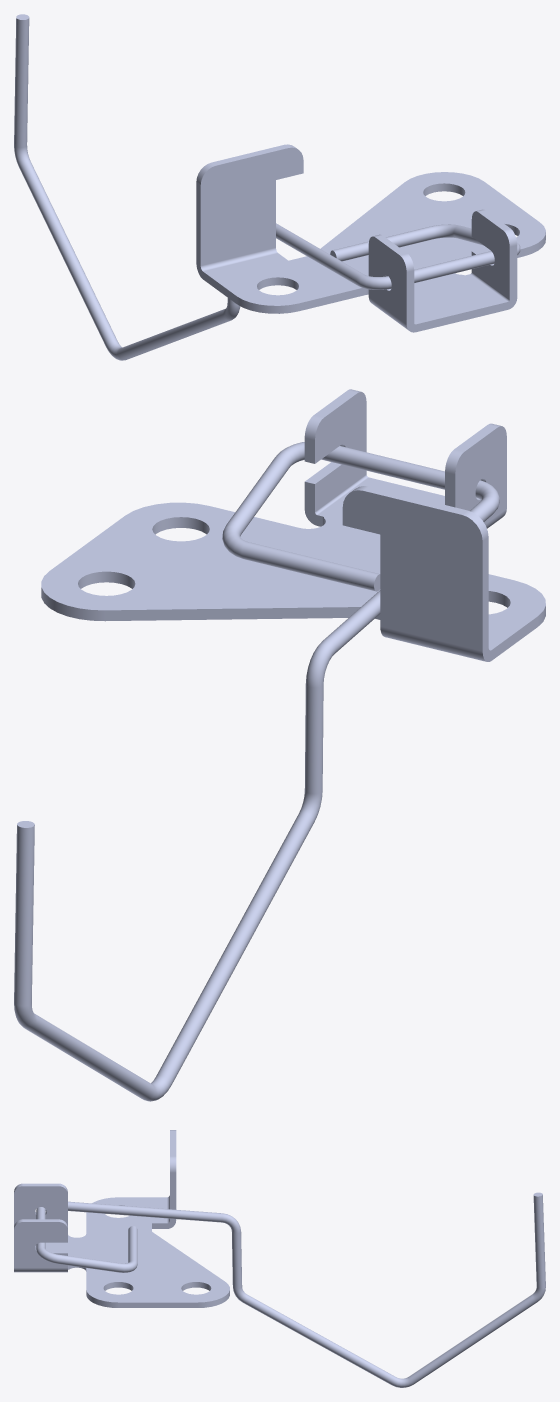
Rendered from Switch, Rollover, Lane, Sys7.fbx.
The picture shows the model from 3 angles, top to bottom: view 1: azimuth 30°, elevation 25°; view 2: azimuth 150°, elevation 25°; view 3: azimuth 270°, elevation 25°; orthographic projection. The views are drawn at different scales.
Visible parts, largest first — view 1: Switch Roll-over Sys7-Plate, Switch Roll-over Sys7-Wire; view 2: Switch Roll-over Sys7-Plate, Switch Roll-over Sys7-Wire; view 3: Switch Roll-over Sys7-Plate, Switch Roll-over Sys7-Wire.
Part boxes in pixels (box(x1,y1,x2,y2)): Switch Roll-over Sys7-Plate: box(196, 144, 545, 332); Switch Roll-over Sys7-Wire: box(14, 14, 520, 360); Switch Roll-over Sys7-Plate: box(41, 389, 545, 661); Switch Roll-over Sys7-Wire: box(14, 442, 499, 1101); Switch Roll-over Sys7-Plate: box(14, 1130, 229, 1307); Switch Roll-over Sys7-Wire: box(36, 1192, 545, 1387).
Bounding box in the file's own units: 3.05 × 3.16 × 6.52.
